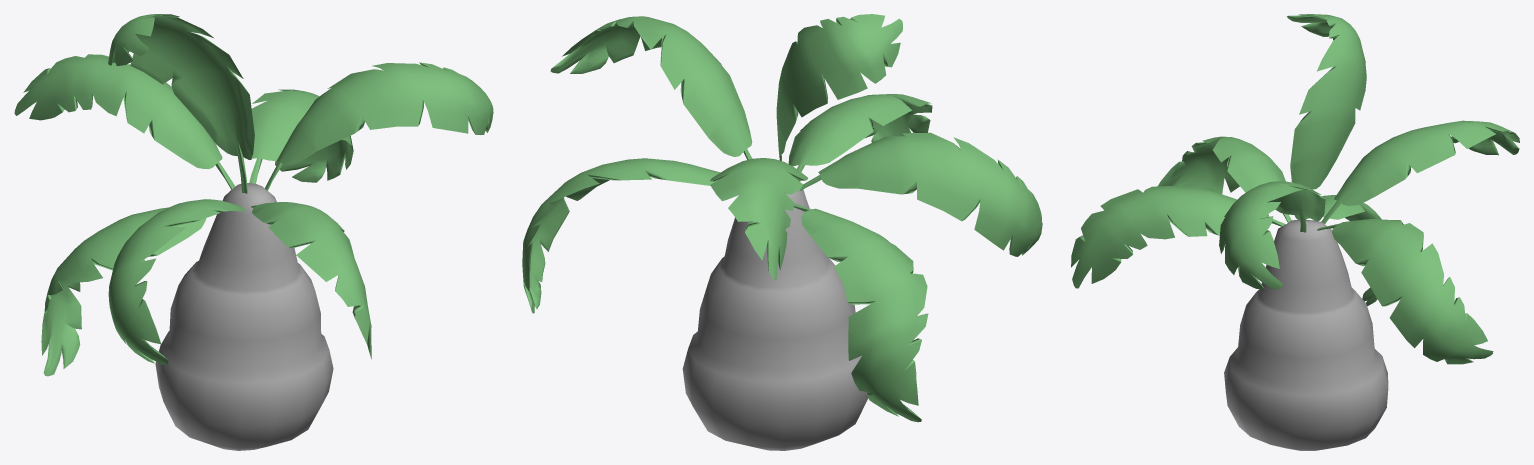
The model's file is Palm_Funky.fbx.
3 views of the same model, side by side, from view 1: azimuth 30°, elevation 25°; view 2: azimuth 150°, elevation 25°; view 3: azimuth 270°, elevation 25° (orthographic). The views are drawn at different scales.
Visible parts, largest first — view 1: Funk_Trunk, Frond24, Frond28, Frond26, Frond25, Frond13, Frond23, Frond27; view 2: Funk_Trunk, Frond13, Frond25, Frond24, Frond28, Frond23, Frond26, Frond27; view 3: Funk_Trunk, Frond27, Frond23, Frond28, Frond26, Frond24, Frond25, Frond13.
Boxes of the visible parts, x1,y1,x2,y2 form: Funk_Trunk: (155,183,333,450); Frond24: (265,62,493,190); Frond28: (108,14,254,193); Frond26: (14,54,235,189); Frond25: (108,199,245,364); Frond13: (41,207,206,376); Frond23: (251,202,371,359); Frond27: (245,89,353,183); Funk_Trunk: (682,189,868,450); Frond13: (794,204,928,422); Frond25: (799,132,1042,256); Frond24: (550,16,752,159); Frond28: (776,14,902,160); Frond23: (788,94,932,172); Frond26: (710,158,807,280); Frond27: (522,158,720,313); Funk_Trunk: (1224,219,1388,450); Frond27: (1317,219,1493,364); Frond23: (1071,186,1285,288); Frond28: (1287,14,1366,220); Frond26: (1321,120,1519,223); Frond24: (1219,181,1325,289); Frond25: (1158,136,1291,222); Frond13: (1294,195,1381,305).
Size of the model in its own units: 6.36 by 6.19 by 6.55.
